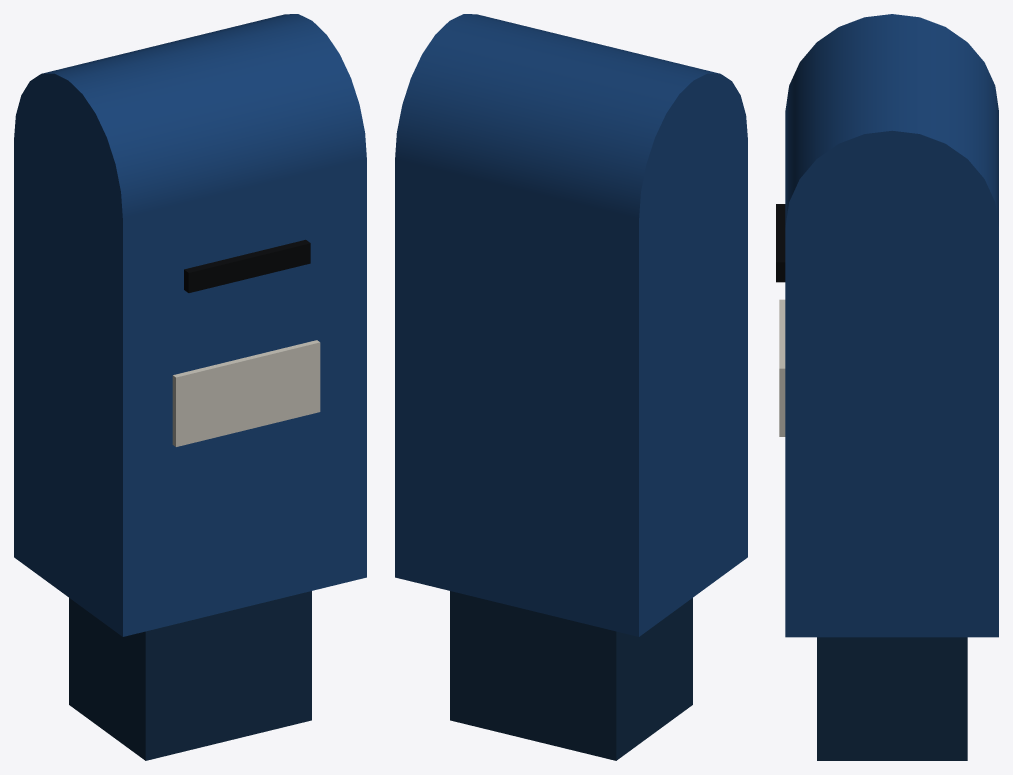
Rendered from 1935-Street-furniture-postbox.glb.
3 renders of one model, left to right at view 1: azimuth 30°, elevation 25°; view 2: azimuth 150°, elevation 25°; view 3: azimuth 270°, elevation 25°, orthographic. The views are drawn at different scales.
Visible parts, largest first — view 1: Street furniture/postbox; view 2: Street furniture/postbox; view 3: Street furniture/postbox.
Boxes of the visible parts, x1=… form: Street furniture/postbox: x1=14, y1=14, x2=366, y2=760; Street furniture/postbox: x1=395, y1=14, x2=747, y2=760; Street furniture/postbox: x1=776, y1=14, x2=998, y2=760.
Size of the model in its own units: 0.44 by 1.14 by 0.355.
